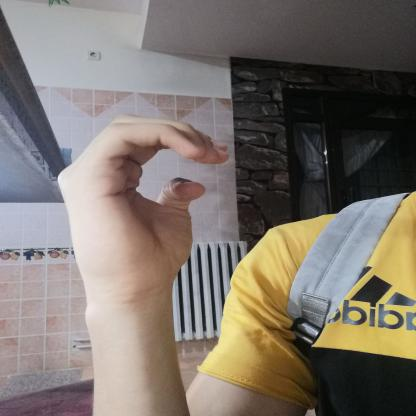JEEM: (43, 100, 244, 300)
